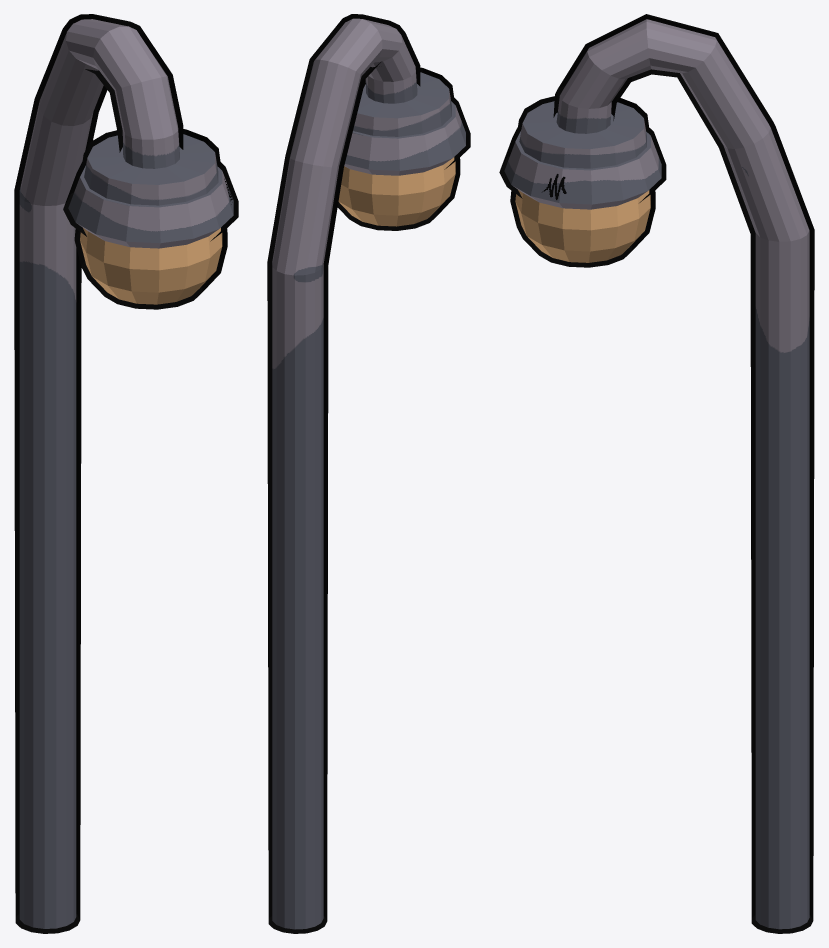
Rendered from Streetlamplol.fbx.
3 views of the same model, side by side, from view 1: azimuth 30°, elevation 25°; view 2: azimuth 150°, elevation 25°; view 3: azimuth 270°, elevation 25° (orthographic). The views are drawn at different scales.
Parts seen in each view (by area): view 1: Cylinder, CellShading; view 2: Cylinder, CellShading; view 3: Cylinder, CellShading.
Boxes of the visible parts, x1,y1,x2,y2 form: Cylinder: (19, 19, 233, 928); CellShading: (14, 14, 238, 933); Cylinder: (272, 18, 465, 929); CellShading: (267, 14, 470, 933); Cylinder: (504, 19, 809, 929); CellShading: (499, 14, 814, 933).
Size of the model in its own units: 169 by 1003 by 317.
Materials: 1 (1 with a texture image).
